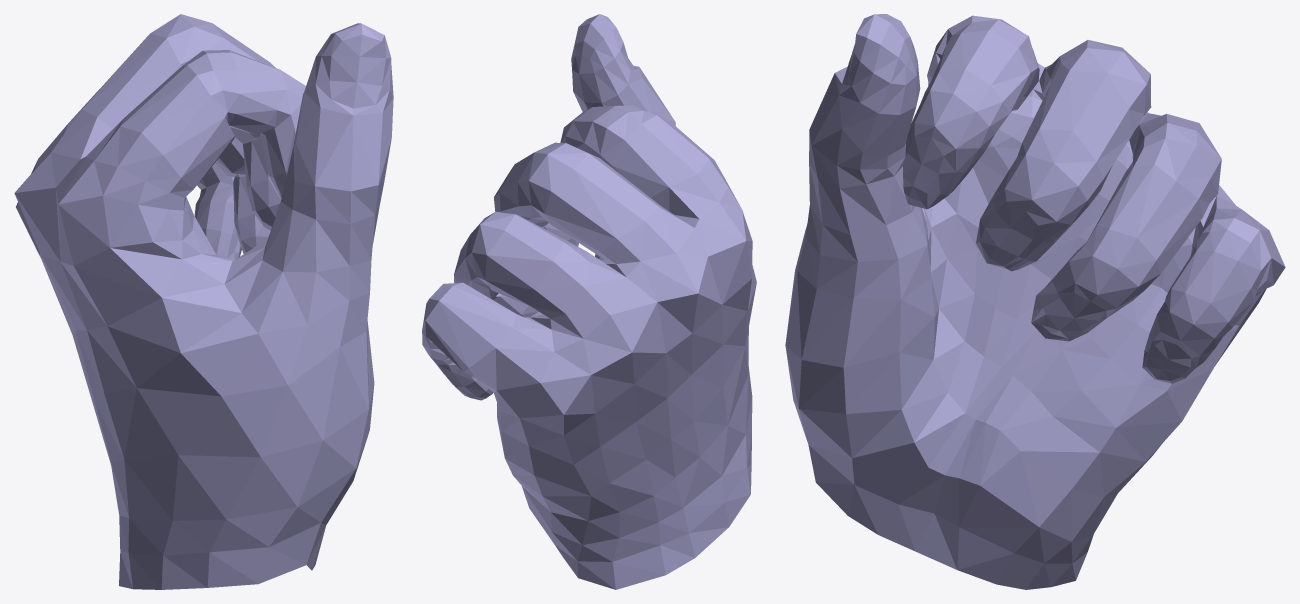
File: frame_0064_source_000064_hand.glb
The picture shows the model from 3 angles, left to right: view 1: azimuth 30°, elevation 25°; view 2: azimuth 150°, elevation 25°; view 3: azimuth 270°, elevation 25°; orthographic projection. The views are drawn at different scales.
Parts seen in each view (by area): view 1: world; view 2: world; view 3: world.
Boxes of the visible parts, x1,y1,x2,y2 form: world: (14,14,393,589); world: (422,14,756,589); world: (785,14,1285,589).
Bounding box in the file's own units: 0.0643 × 0.1253 × 0.094.
